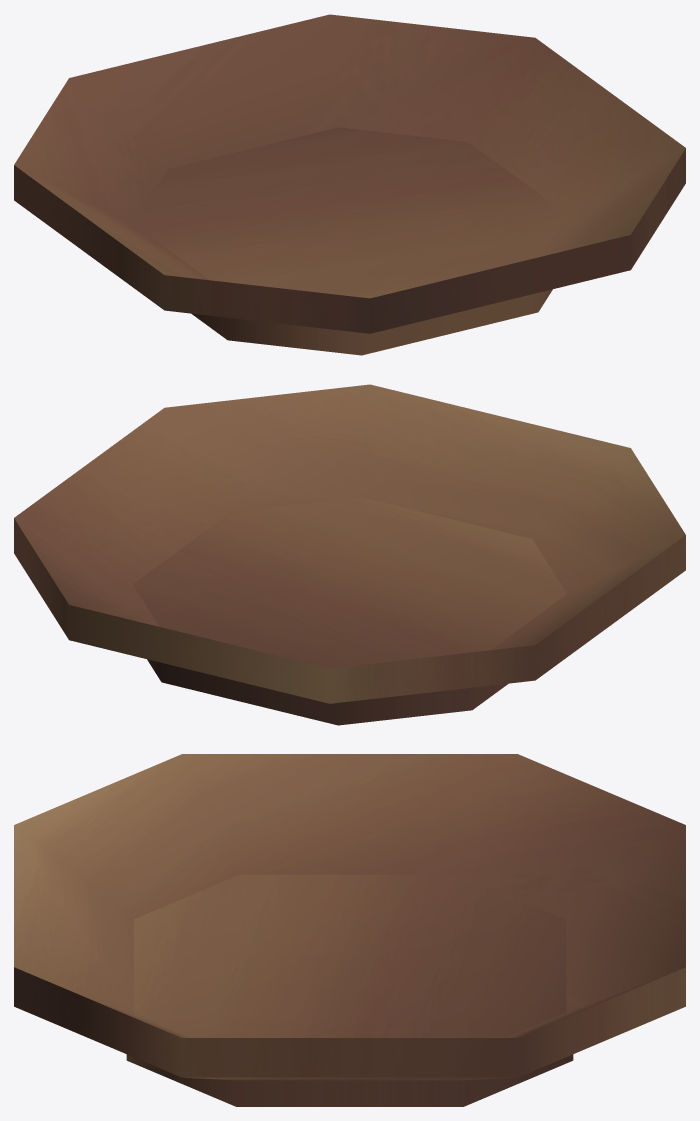
The model's file is plate_wood.fbx.
The picture shows the model from 3 angles, top to bottom: view 1: azimuth 30°, elevation 25°; view 2: azimuth 150°, elevation 25°; view 3: azimuth 270°, elevation 25°; orthographic projection. The views are drawn at different scales.
Visible parts, largest first — view 1: plate_wood; view 2: plate_wood; view 3: plate_wood.
Boxes of the visible parts, x1,y1,x2,y2 form: plate_wood: [14, 14, 685, 355]; plate_wood: [14, 384, 685, 725]; plate_wood: [14, 754, 685, 1106].
Size of the model in its own units: 51.71 by 9.88 by 51.71.
